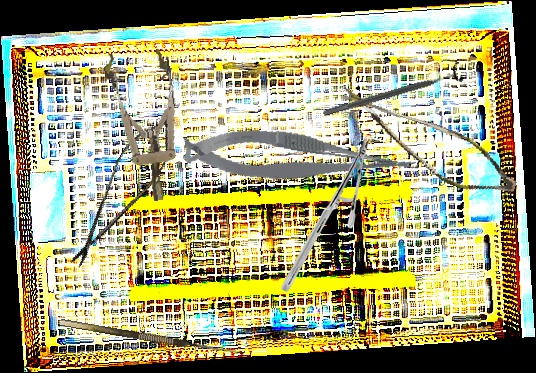Fixation Ring: (319, 60, 467, 124)
Hook Surgical: (59, 308, 248, 359)
Micro Scissor: (323, 85, 529, 204), (58, 105, 188, 278), (181, 115, 418, 204)
Needle Holder: (281, 137, 371, 292)
Speculum: (102, 45, 190, 206)
